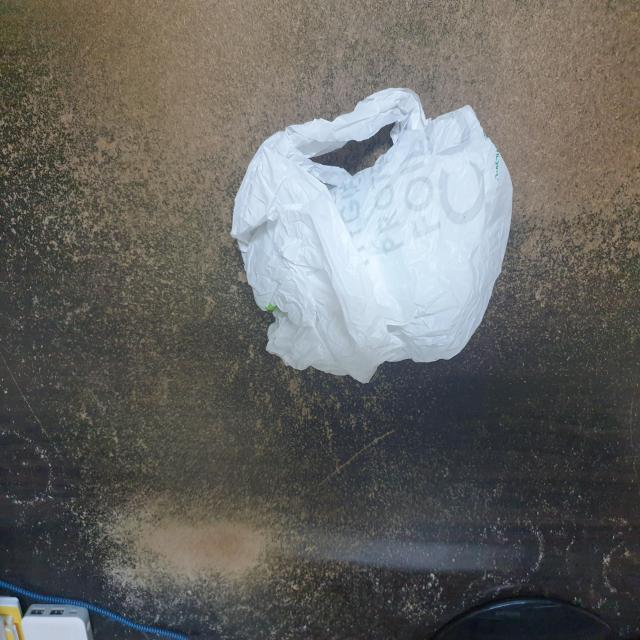plastic bag: (230, 86, 515, 386)
